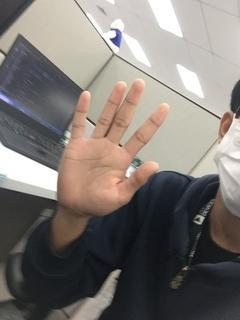hand: (55, 75, 173, 214)
